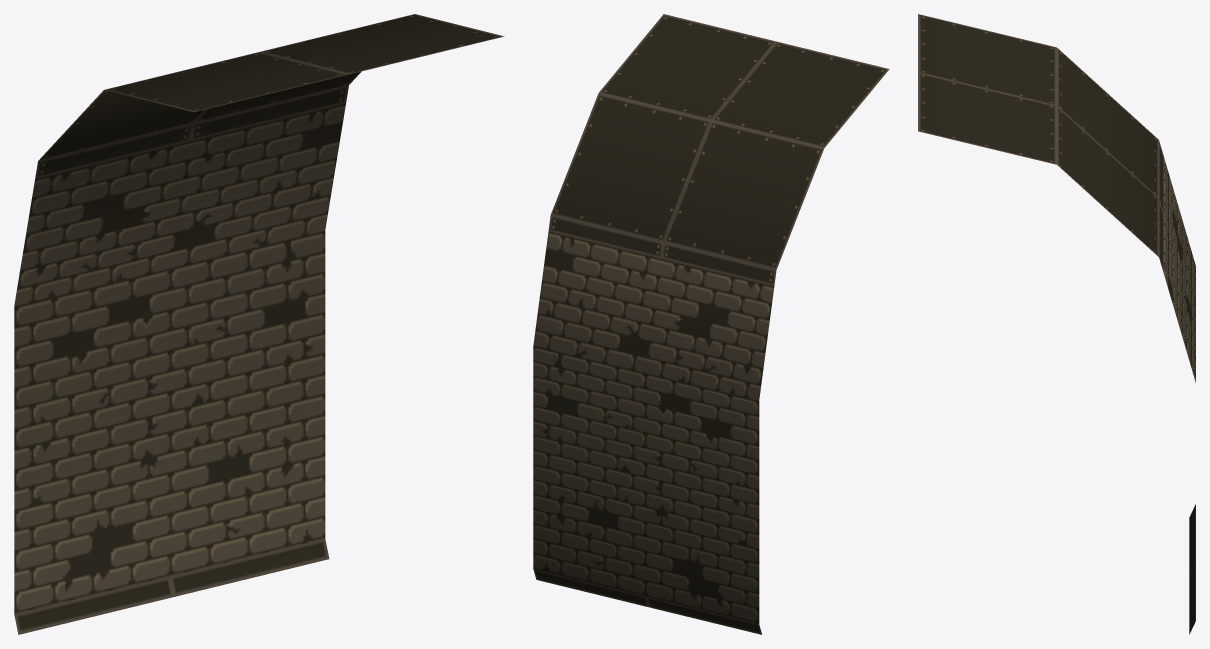
File: Wall.fbx
The picture shows the model from 3 angles, left to right: view 1: azimuth 30°, elevation 25°; view 2: azimuth 150°, elevation 25°; view 3: azimuth 270°, elevation 25°; orthographic projection. The views are drawn at different scales.
Visible parts, largest first — view 1: Wall.001; view 2: Wall.001; view 3: Wall.001.
Part boxes in pixels (<box>): Wall.001: <box>14,14,504,634</box>; Wall.001: <box>533,14,889,634</box>; Wall.001: <box>918,14,1195,634</box>.
Size of the model in its own units: 400 by 800 by 400.
